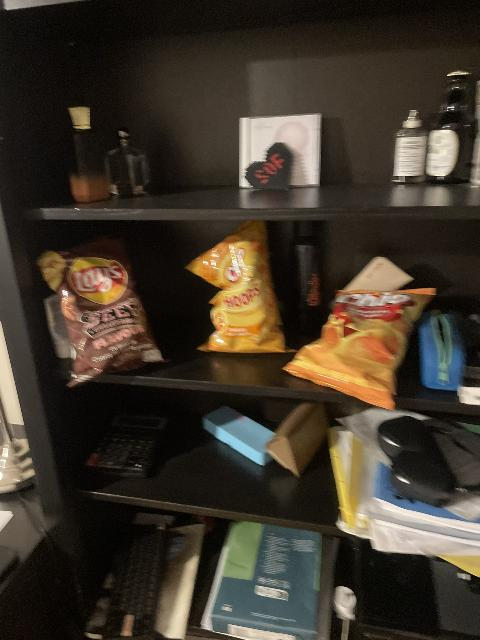Chio Cascaval 125g: (280, 277, 427, 408)
Chio Hula Hoops Cheese 70g: (189, 220, 292, 352)
Lays Beef Grilled Ribs 125g: (39, 233, 177, 382)
